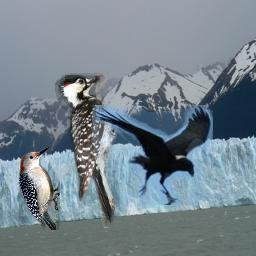Crow: (92, 105, 213, 205)
Woodpecker: (53, 73, 126, 226), (19, 147, 60, 230)
